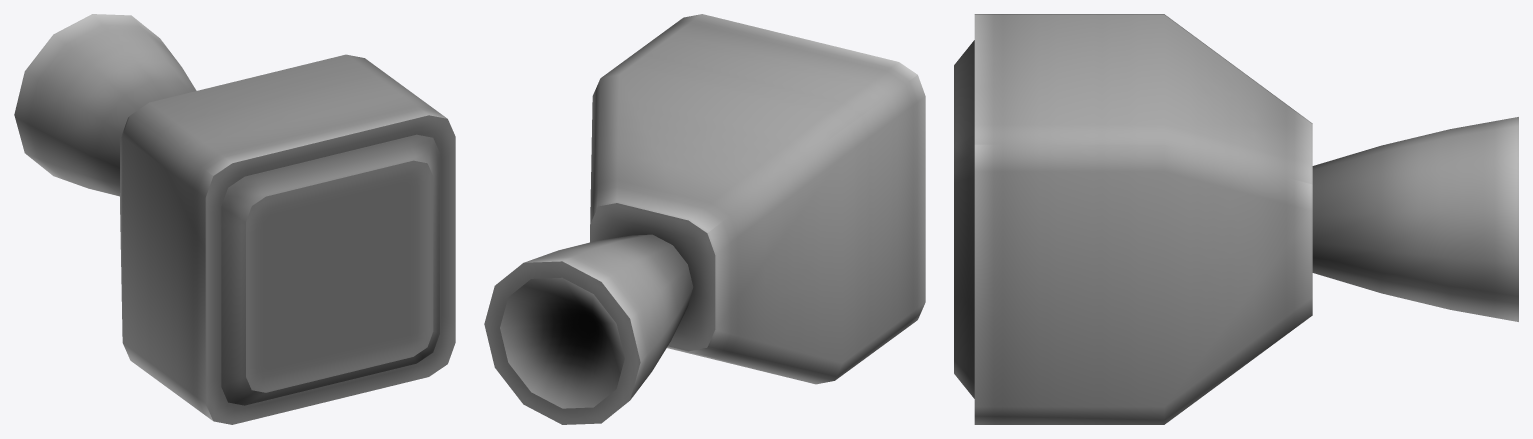
File: Tantares_RCS_5_E.obj
3 views of the same model, side by side, from view 1: azimuth 30°, elevation 25°; view 2: azimuth 150°, elevation 25°; view 3: azimuth 270°, elevation 25° (orthographic). The views are drawn at different scales.
Visible parts, largest first — view 1: Tantares_RCS_5_E; view 2: Tantares_RCS_5_E; view 3: Tantares_RCS_5_E.
Part boxes in pixels (x1,y1,x2,y2): Tantares_RCS_5_E: (14, 14, 455, 424); Tantares_RCS_5_E: (484, 14, 925, 424); Tantares_RCS_5_E: (954, 14, 1518, 424).
Bounding box in the file's own units: 0.1 × 0.1 × 0.1712.
